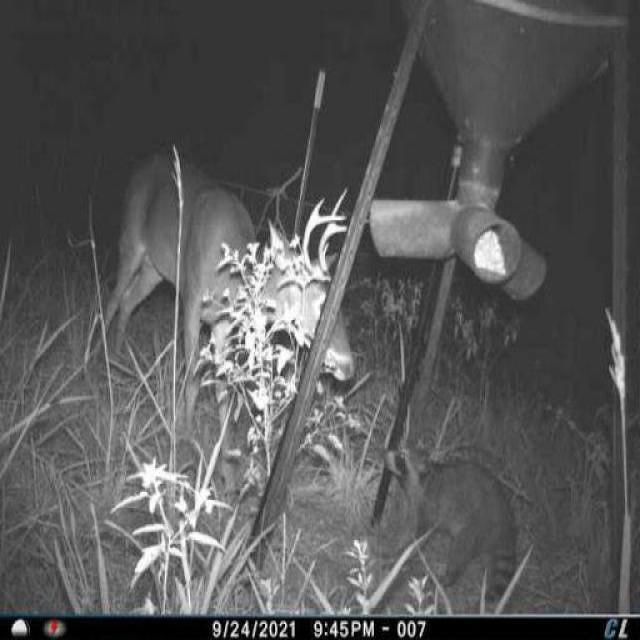deer: (86, 123, 359, 512)
